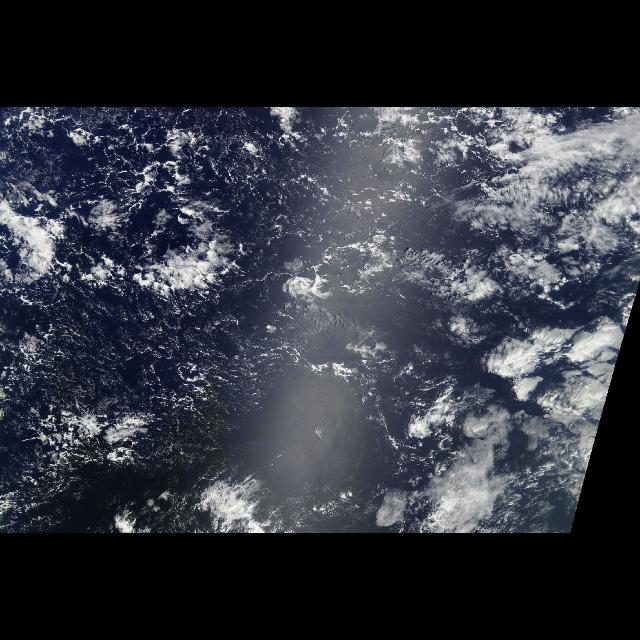Fish: (404, 107, 640, 287)
Flower: (384, 281, 640, 534), (0, 152, 102, 328)
Gravel: (0, 108, 368, 464)
Sugar: (27, 304, 321, 416)
